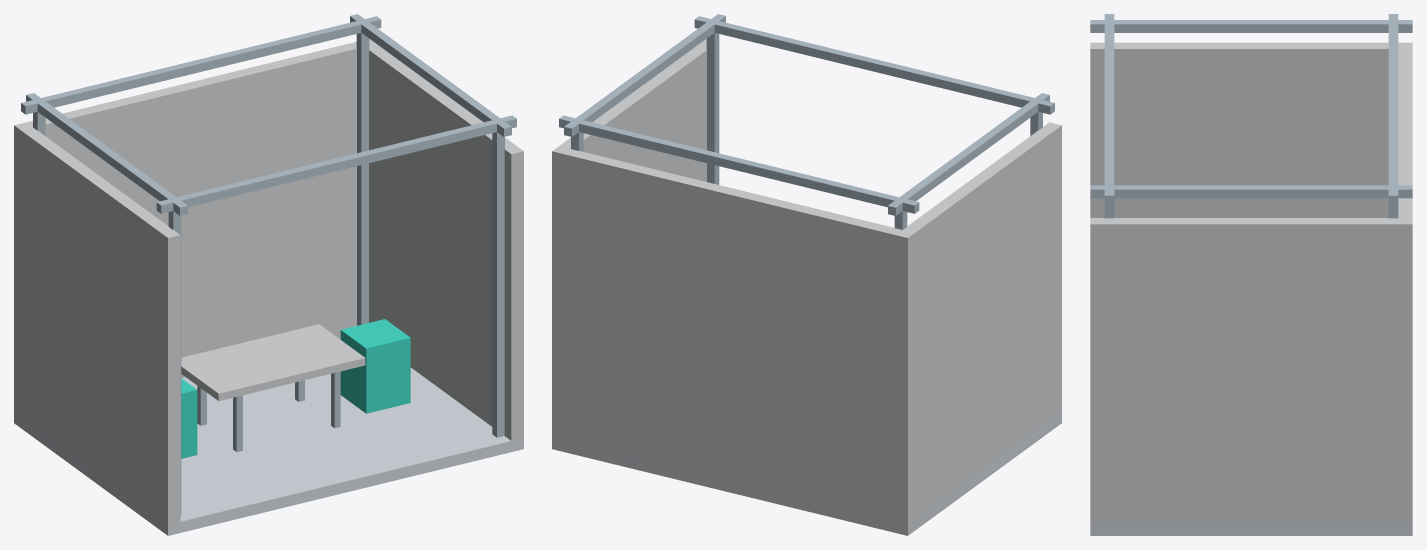
3 views of the same model, side by side, from view 1: azimuth 30°, elevation 25°; view 2: azimuth 150°, elevation 25°; view 3: azimuth 270°, elevation 25° (orthographic). The views are drawn at different scales.
Visible parts, largest first — view 1: Exhibition Booth Concept; view 2: Exhibition Booth Concept; view 3: Exhibition Booth Concept.
Part boxes in pixels (x1=…): Exhibition Booth Concept: x1=14, y1=14, x2=523, y2=535; Exhibition Booth Concept: x1=552, y1=14, x2=1061, y2=535; Exhibition Booth Concept: x1=1090, y1=14, x2=1412, y2=535.
Size of the model in its own units: 4 by 3.49 by 3.
